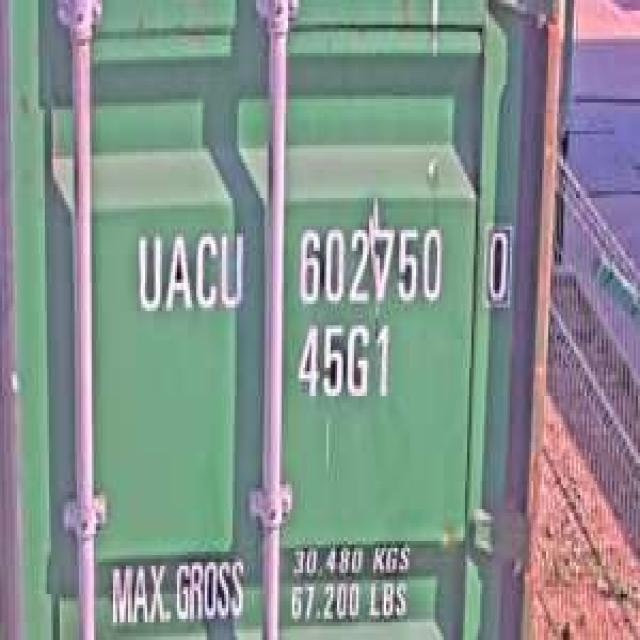dv: (480, 216, 514, 311)
owner: (130, 223, 248, 325)
serial: (292, 216, 446, 311)
size: (292, 315, 395, 410)
